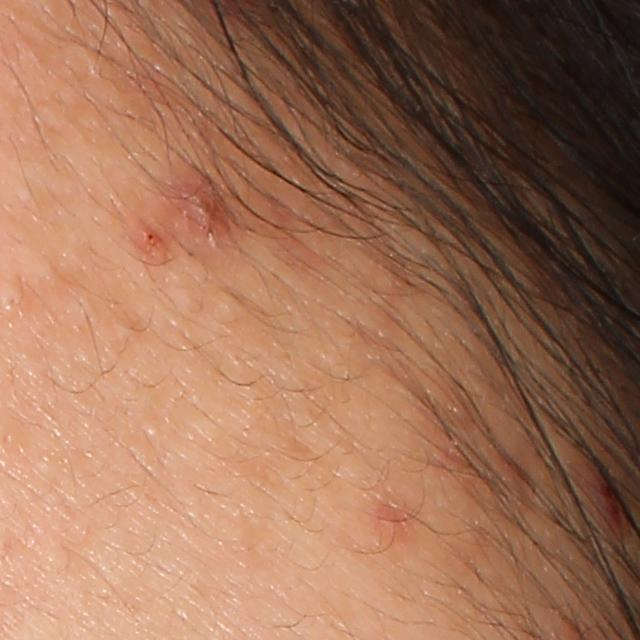papule: (174, 178, 233, 243), (579, 455, 623, 523), (139, 225, 170, 255)
